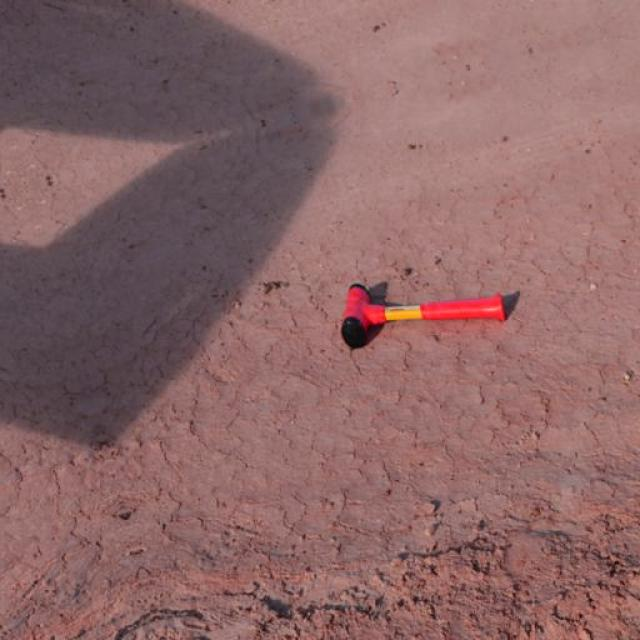mallet: (342, 279, 522, 349)
